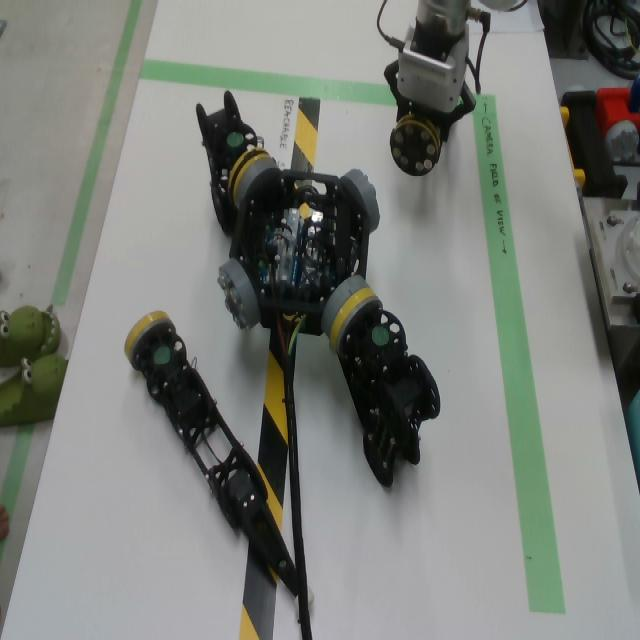body: (229, 171, 370, 337)
body_connector: (217, 259, 261, 331), (321, 275, 369, 337), (340, 169, 380, 233), (235, 157, 281, 208)
gripper: (384, 25, 476, 143)
leg: (124, 311, 299, 611), (330, 287, 441, 488), (196, 91, 271, 239), (389, 101, 448, 177)
leg_connector: (329, 288, 384, 353), (389, 113, 441, 177), (124, 311, 176, 369), (228, 148, 270, 203)
leg_marker: (372, 327, 389, 347), (154, 345, 170, 364), (227, 133, 244, 145)
